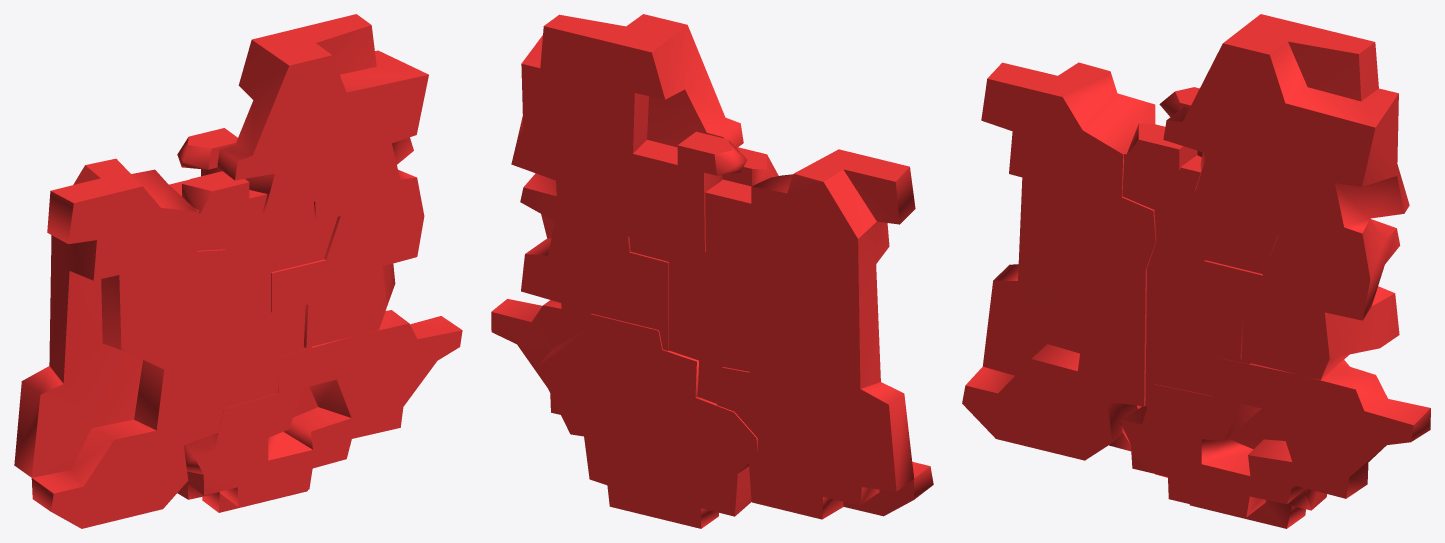
Rendered from DBK_Brick_Prop_Mid_C.fbx.
3 renders of one model, left to right at view 1: azimuth 30°, elevation 25°; view 2: azimuth 150°, elevation 25°; view 3: azimuth 330°, elevation 25°, orthographic. The views are drawn at different scales.
Parts seen in each view (by area): view 1: DBK_Brick_Prop_Mid_C; view 2: DBK_Brick_Prop_Mid_C; view 3: DBK_Brick_Prop_Mid_C.
Part boxes in pixels (bbox=[...]): DBK_Brick_Prop_Mid_C: bbox=[14, 14, 462, 528]; DBK_Brick_Prop_Mid_C: bbox=[491, 14, 933, 528]; DBK_Brick_Prop_Mid_C: bbox=[962, 14, 1430, 528].
Bounding box in the file's own units: 132 × 137 × 20.64.
